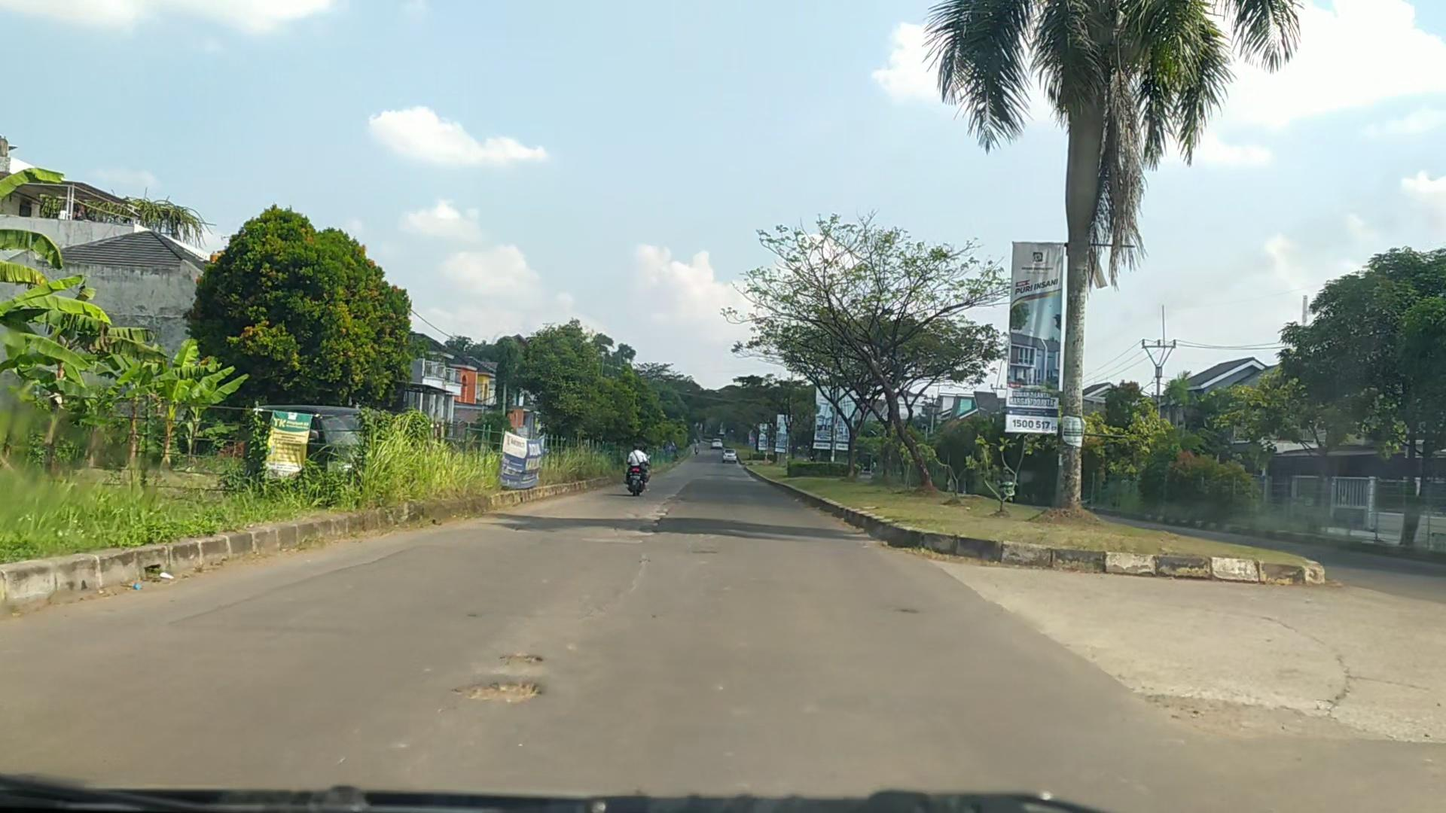pothole: (446, 678, 546, 706), (501, 652, 545, 666)
